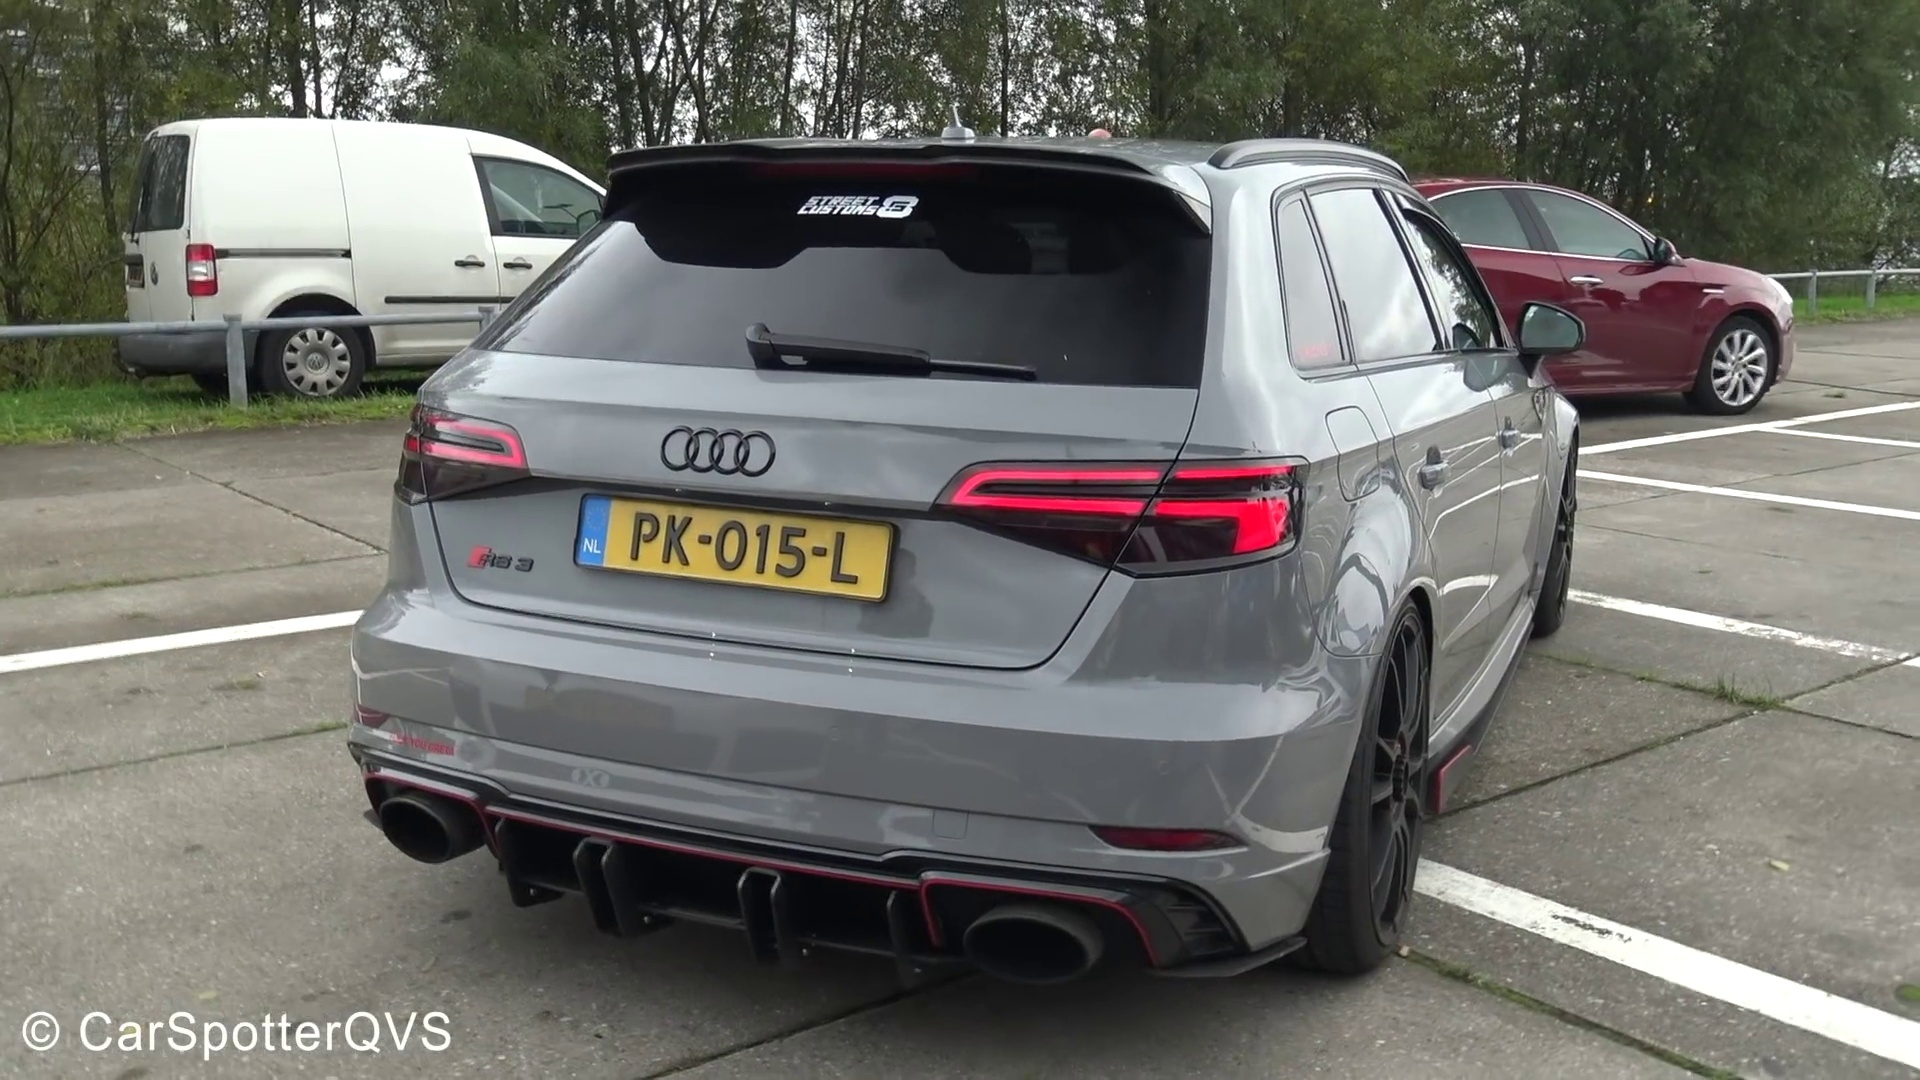number_plate: (576, 487, 902, 596)
